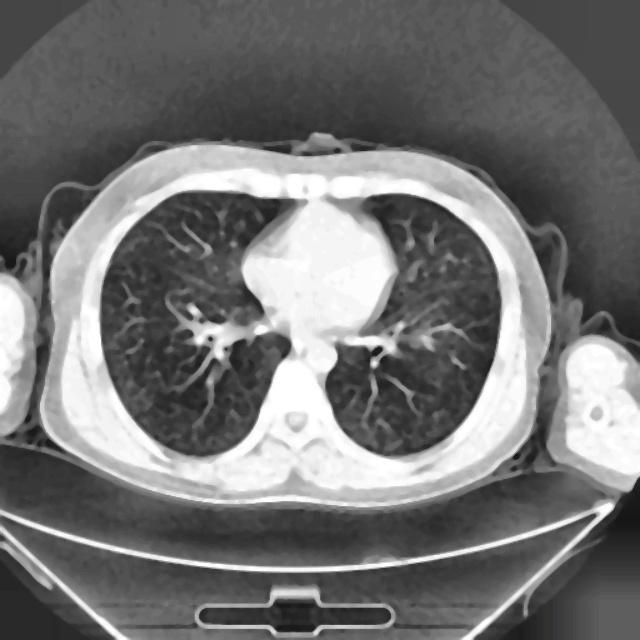covid: (32, 135, 561, 513)
